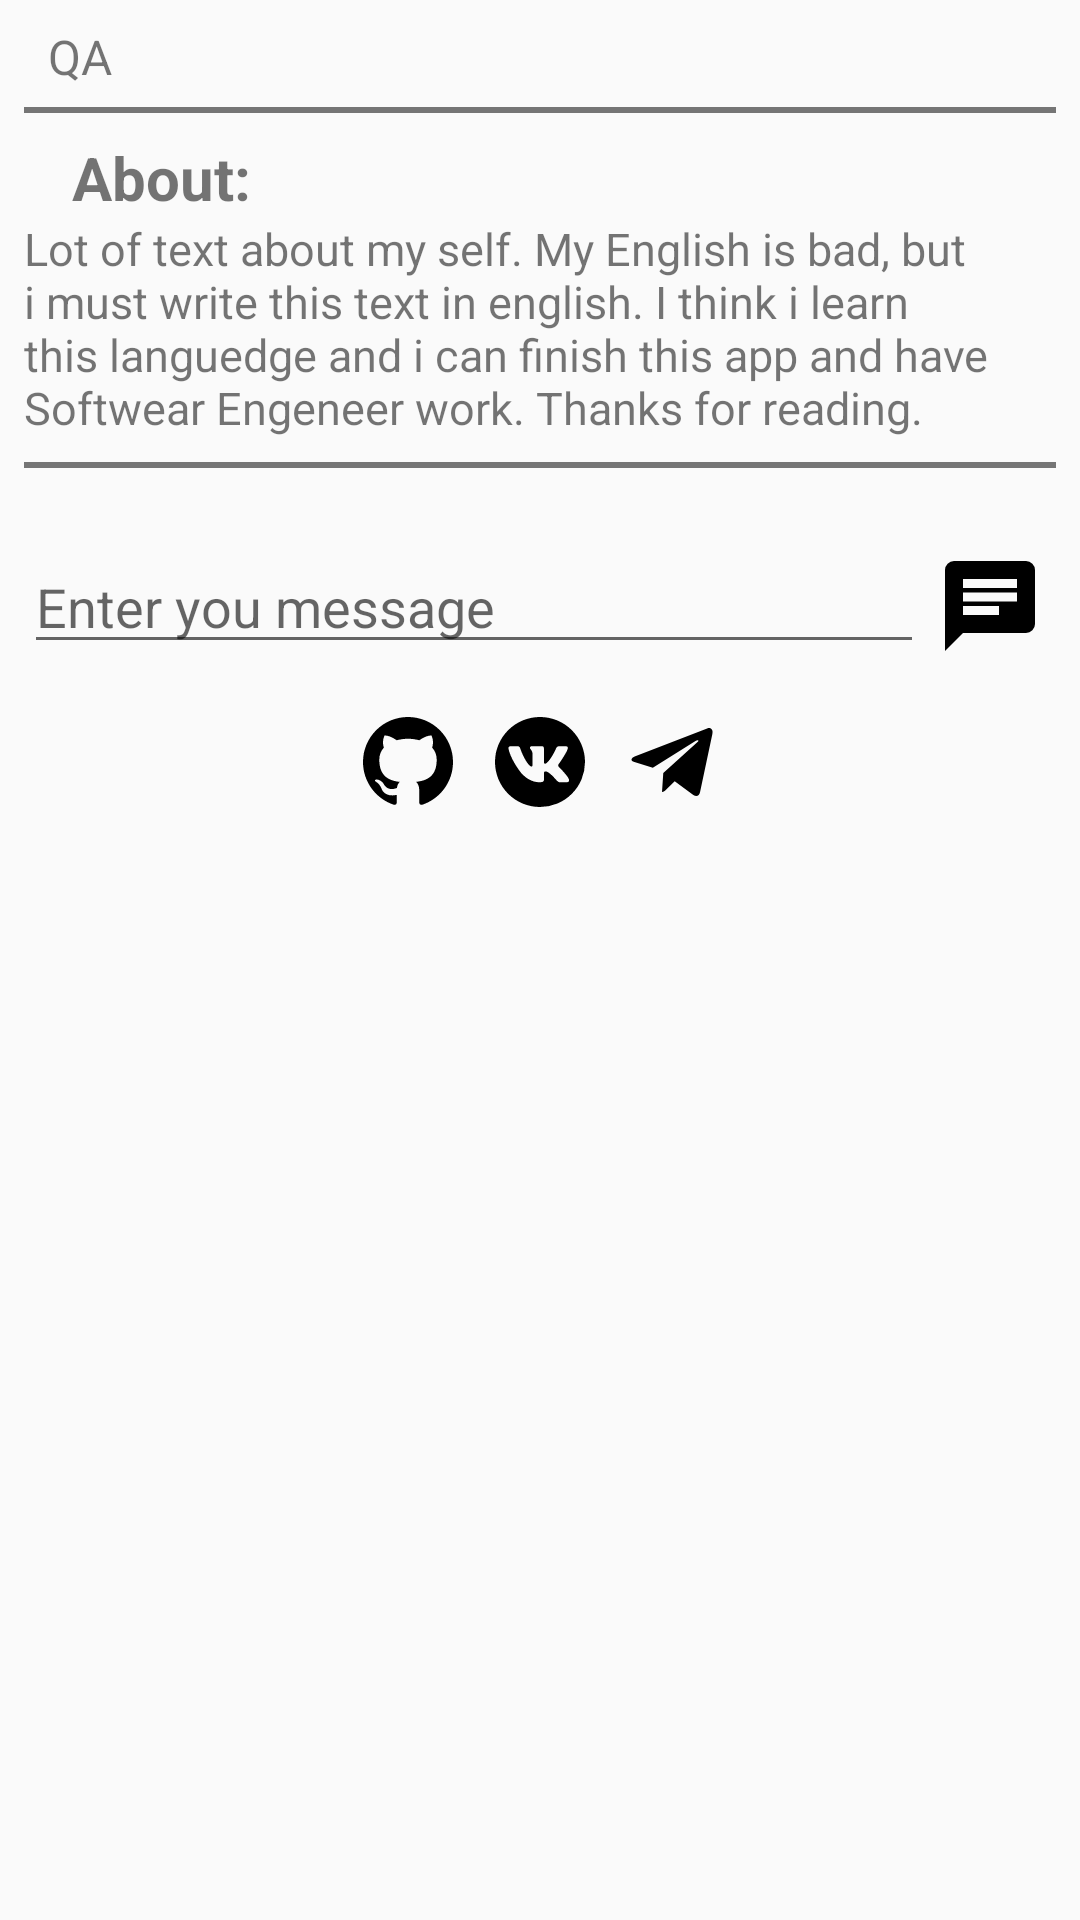

Screen size 1080px×1920px. Icon name, then its center in pixels as (x=x, y=y):
Send sms message: (x=990, y=606)
